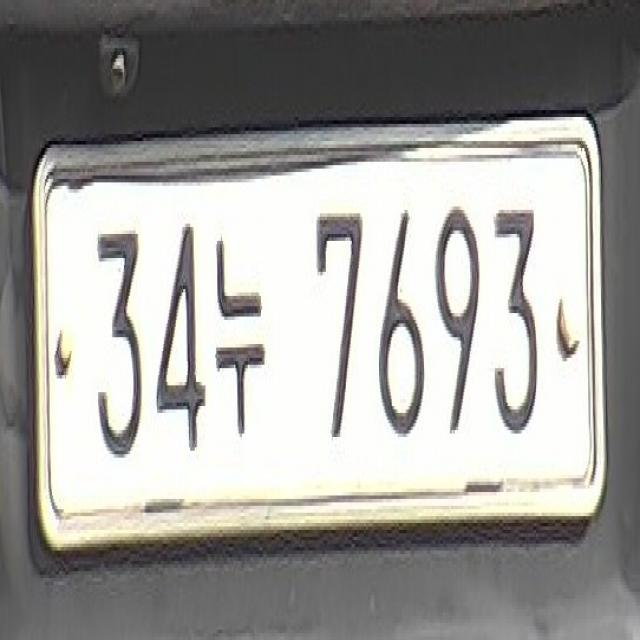3: (94, 220, 146, 461), (492, 196, 540, 441)
4: (152, 224, 205, 451)
6: (376, 203, 425, 437)
7: (312, 203, 365, 437)
9: (434, 199, 480, 444)
license_plate: (31, 103, 609, 551)
nu: (213, 230, 266, 440)
